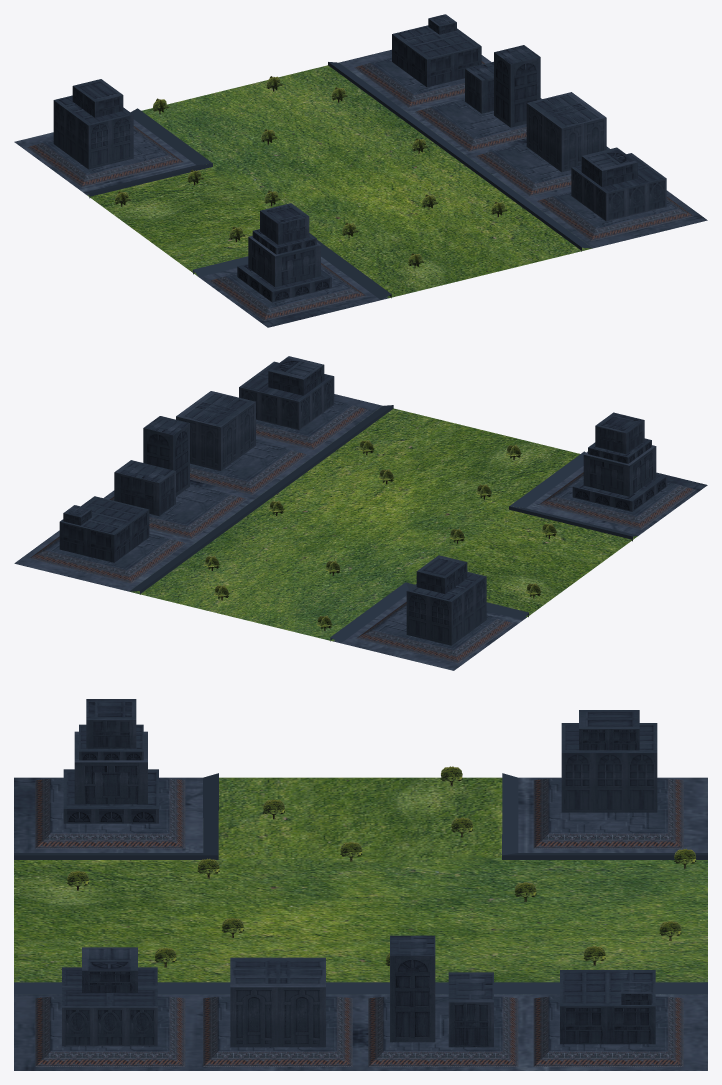
The model's file is Parkblok1.FBX.
The picture shows the model from 3 angles, top to bottom: view 1: azimuth 30°, elevation 25°; view 2: azimuth 150°, elevation 25°; view 3: azimuth 270°, elevation 25°; orthographic projection. The views are drawn at different scales.
Parts seen in each view (by area): view 1: polySurface12; view 2: polySurface12; view 3: polySurface12.
Boxes of the visible parts, x1,y1,x2,y2 form: polySurface12: [14, 14, 707, 327]; polySurface12: [14, 356, 707, 670]; polySurface12: [14, 699, 707, 1070].
Bounding box in the file's own units: 43.8 × 7.31 × 43.79.
3 materials, 3 textured.
